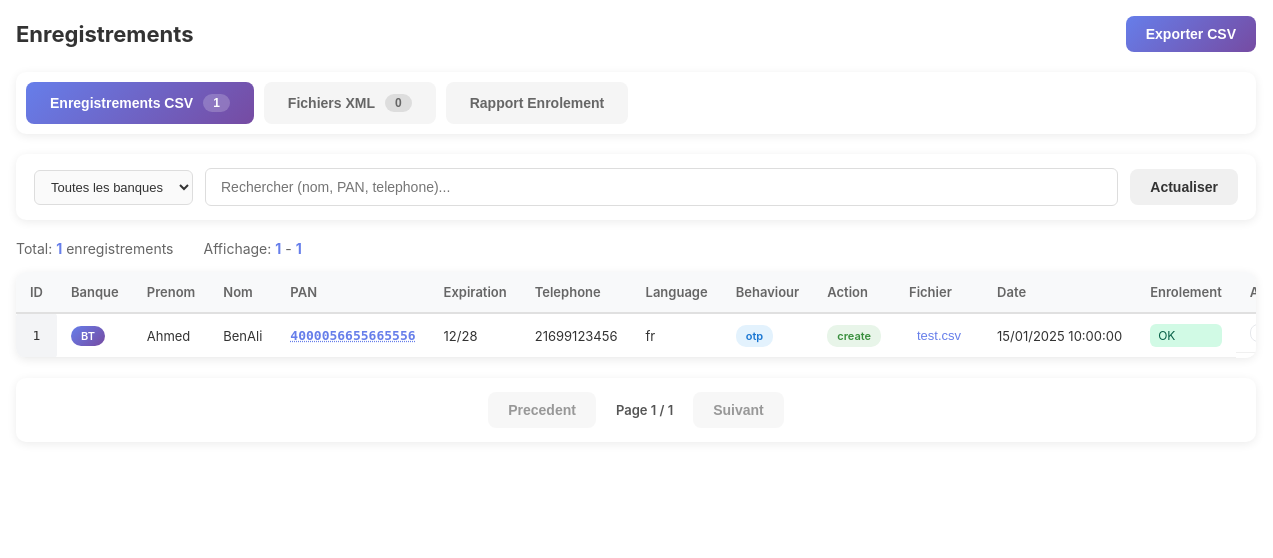
Records › switches to XML tab
This screenshot has width=1273, height=558.
Expected: the heading "Enregistrements" is shown, [16,21,194,47]
Click the text "Fichiers XML": (331, 103) [288,95,375,111]
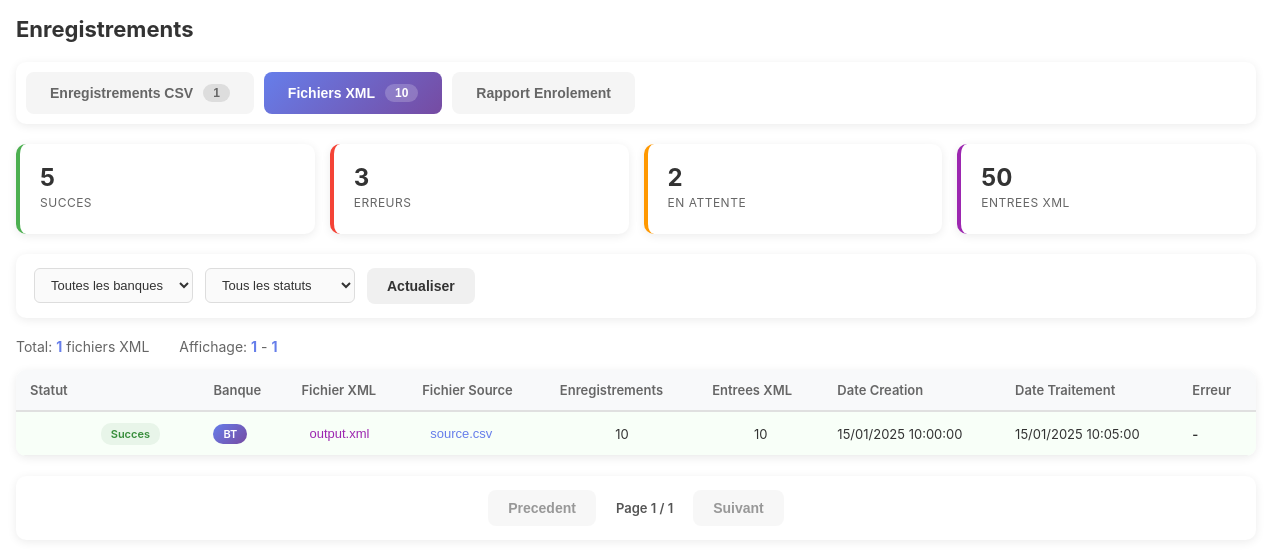
Result: the text "Succes" in the row of "Erreurs" is shown at [40,195,92,210]
Result: the button "output.xml" is shown at [301,422,377,445]
